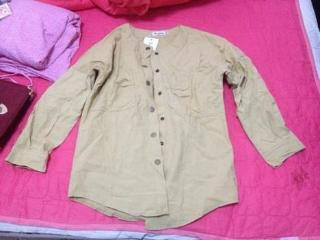long sleeve outwear: (5, 23, 307, 230)
